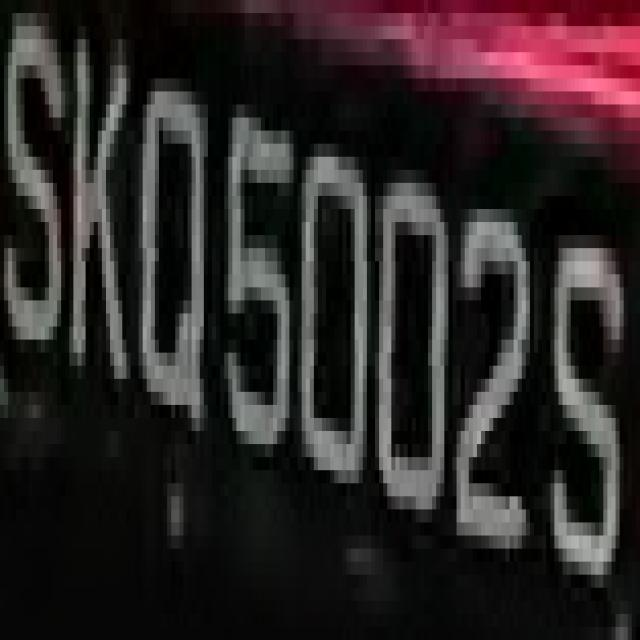0: (290, 105, 379, 522), (379, 157, 453, 536)
2: (456, 131, 526, 548)
5: (216, 52, 298, 484)
K: (61, 26, 139, 431)
Q: (126, 52, 208, 470)
S: (550, 183, 628, 601), (8, 26, 74, 392)
